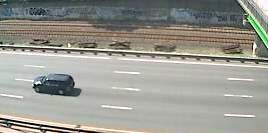car: (30, 71, 79, 98)
